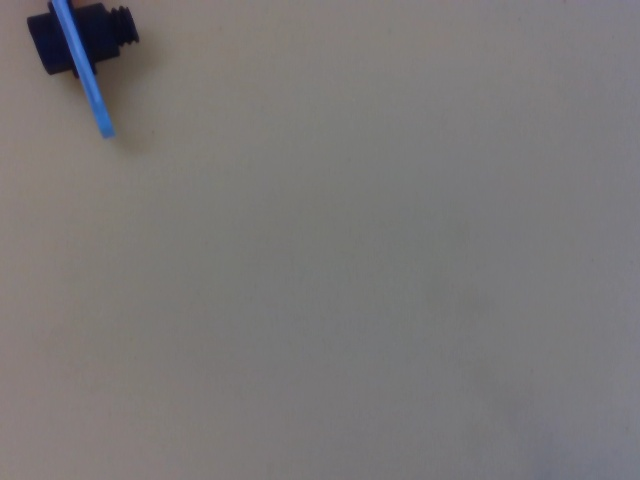part_1_good: (19, 0, 146, 146)
